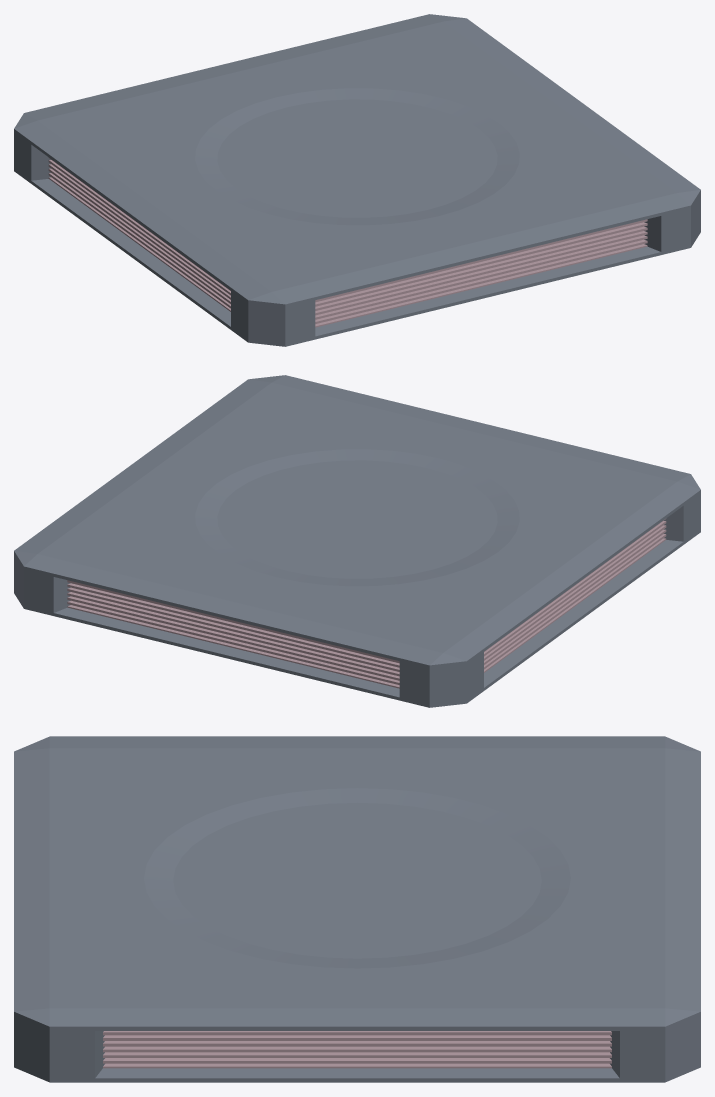
Rendered from 3_st_geometry-panic-factory.fbx.
3 renders of one model, top to bottom at view 1: azimuth 30°, elevation 25°; view 2: azimuth 150°, elevation 25°; view 3: azimuth 270°, elevation 25°, orthographic. The views are drawn at different scales.
Parts seen in each view (by area): view 1: 3_st.geometry-panic-factory; view 2: 3_st.geometry-panic-factory; view 3: 3_st.geometry-panic-factory.
Part boxes in pixels (left/top/right/bottom): 3_st.geometry-panic-factory: left=14, top=14, right=700, bottom=346; 3_st.geometry-panic-factory: left=14, top=375, right=700, bottom=707; 3_st.geometry-panic-factory: left=14, top=736, right=700, bottom=1082.
Bounding box in the file's own units: 0.95 × 0.1 × 0.95.
